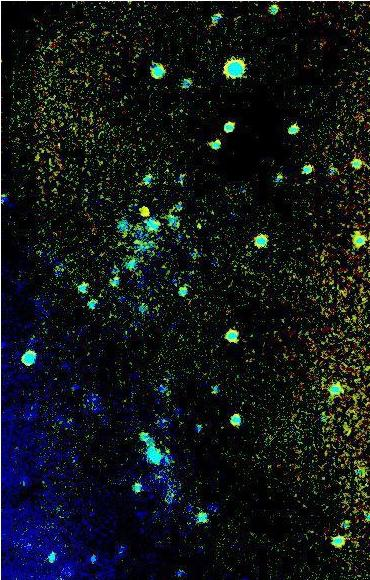star: (131, 195, 161, 225)
